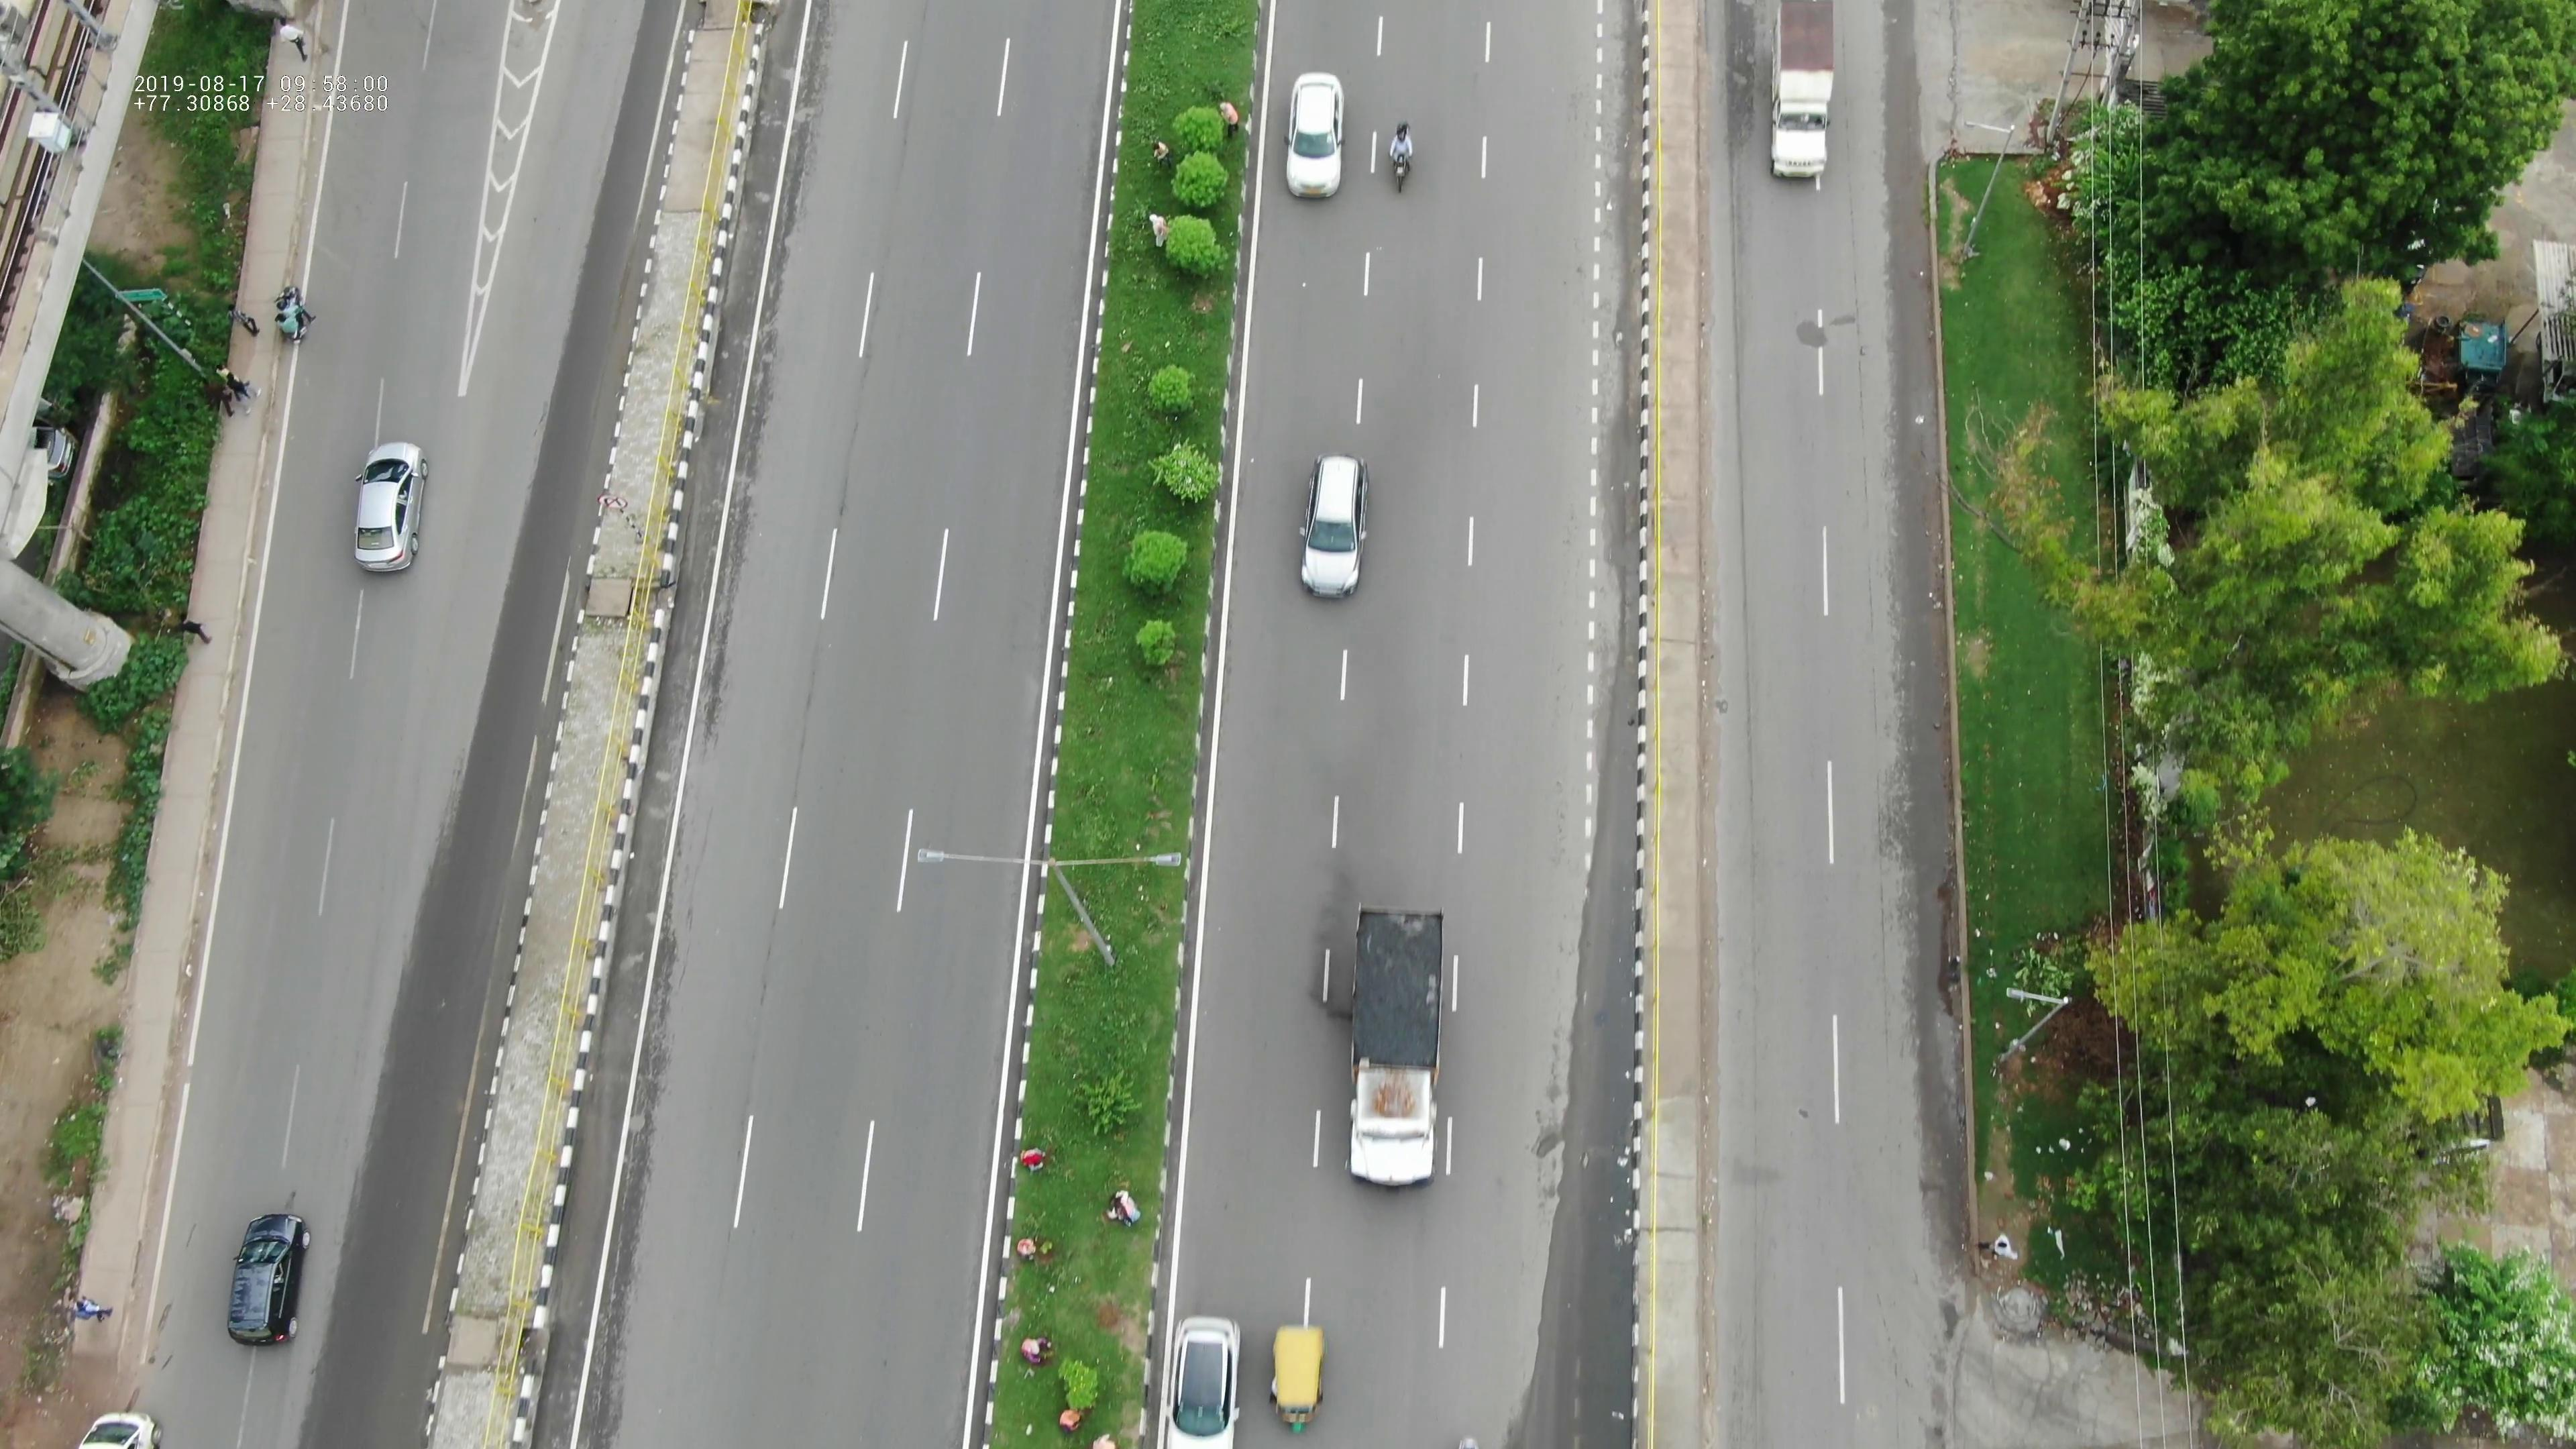Waterlogging: (1525, 1040, 1637, 1445), (1872, 205, 1962, 554), (1886, 660, 1976, 994)
